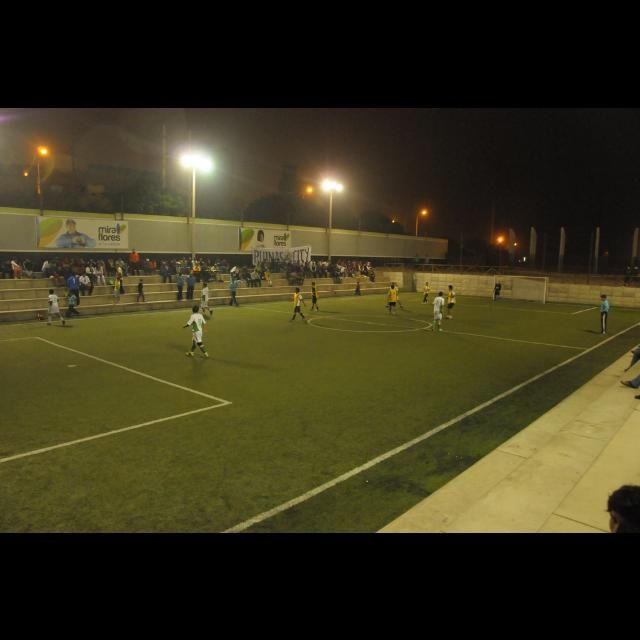Football: (38, 314, 40, 320)
